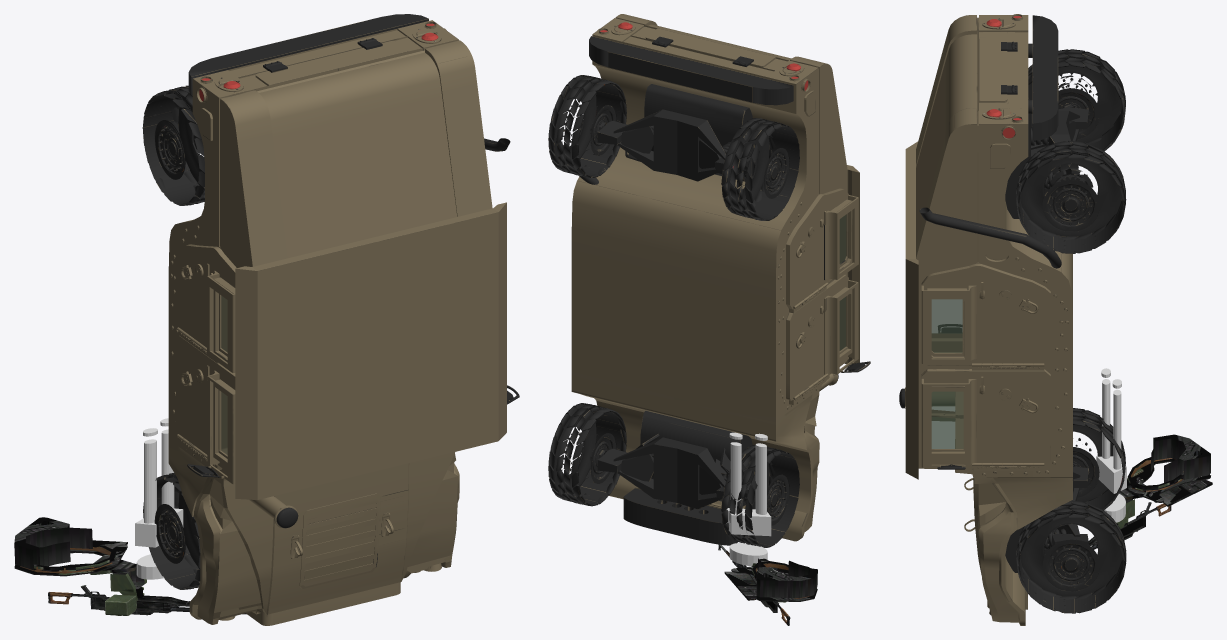
The model's file is humvee_gunner_live.glb.
The picture shows the model from 3 angles, left to right: view 1: azimuth 30°, elevation 25°; view 2: azimuth 150°, elevation 25°; view 3: azimuth 270°, elevation 25°; orthographic projection. The views are drawn at different scales.
Parts seen in each view (by area): view 1: Truck.001, Truck.001_BaseColor_0.001, Object_25_clean, armed_barrel_01, Glass of truct, armed_barrel_02; view 2: Truck.001, Truck.001_BaseColor_0.001, Object_25_clean, armed_barrel_01, armed_gun_block, Glass of truct, armed_mantlet, armed_barrel_02; view 3: Truck.001, Truck.001_BaseColor_0.001, Object_25_clean, Glass of truct, armed_gun_block, armed_barrel_02, armed_barrel_01.
Boxes of the visible parts, x1,y1,x2,y2 form: Truck.001: (143,14,517,624); Truck.001_BaseColor_0.001: (142,17,519,625); Object_25_clean: (14,517,246,615); armed_barrel_01: (144,439,156,523); Glass of truct: (221,296,227,454); armed_barrel_02: (161,429,174,509); Truck.001: (548,14,868,547); Truck.001_BaseColor_0.001: (567,22,870,545); Object_25_clean: (718,544,817,625); armed_barrel_01: (755,443,766,514); armed_gun_block: (726,508,771,536); Glass of truct: (839,215,846,350); armed_mantlet: (729,543,767,566); armed_barrel_02: (730,442,741,513); Truck.001: (899,15,1126,625); Truck.001_BaseColor_0.001: (899,14,1125,614); Object_25_clean: (1088,434,1212,549); Glass of truct: (931,299,963,448); armed_gun_block: (1096,456,1126,493); armed_barrel_02: (1113,389,1121,469); armed_barrel_01: (1102,379,1110,458).
Bounding box in the file's own units: 3.32 × 4.78 × 2.54.
6 materials, 2 textured.
